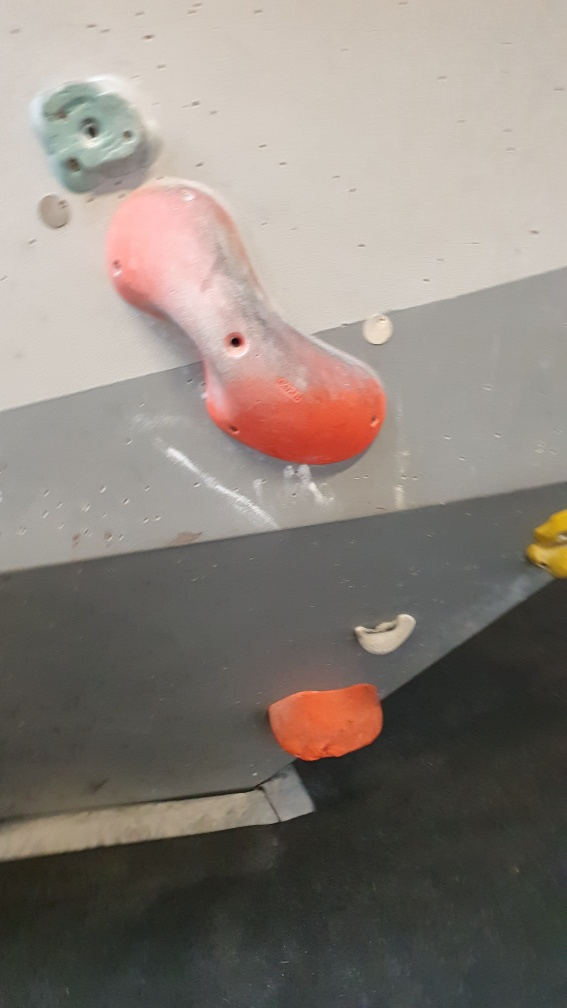Hand Start: (32, 190, 79, 234), (358, 309, 397, 350)
Jug: (352, 609, 418, 657)
Pinch: (101, 178, 387, 472)
